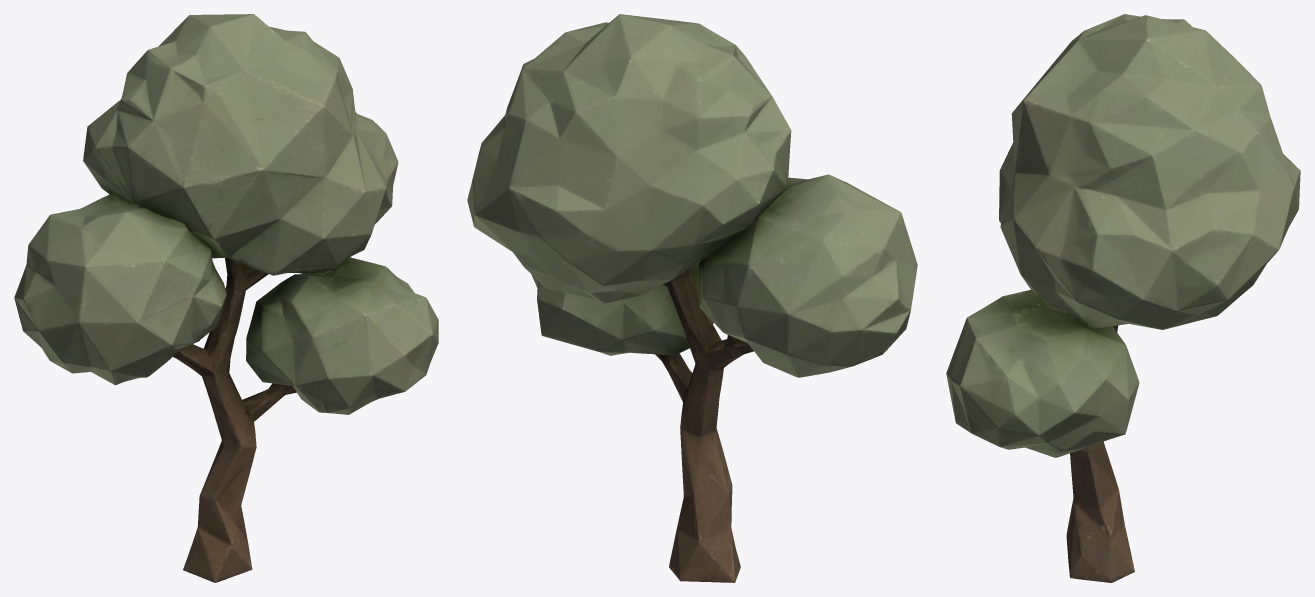
The model's file is round_tree.glb.
3 renders of one model, left to right at view 1: azimuth 30°, elevation 25°; view 2: azimuth 150°, elevation 25°; view 3: azimuth 270°, elevation 25°, orthographic. The views are drawn at different scales.
Parts seen in each view (by area): view 1: node_0; view 2: node_0; view 3: node_0.
Boxes of the visible parts, left/top/right/bottom form: node_0: left=14, top=14, right=438, bottom=582; node_0: left=467, top=14, right=917, bottom=582; node_0: left=946, top=14, right=1300, bottom=582.
Bounding box in the file's own units: 0.8651 × 1.17 × 0.6635.
Materials: 1 (1 with a texture image).
